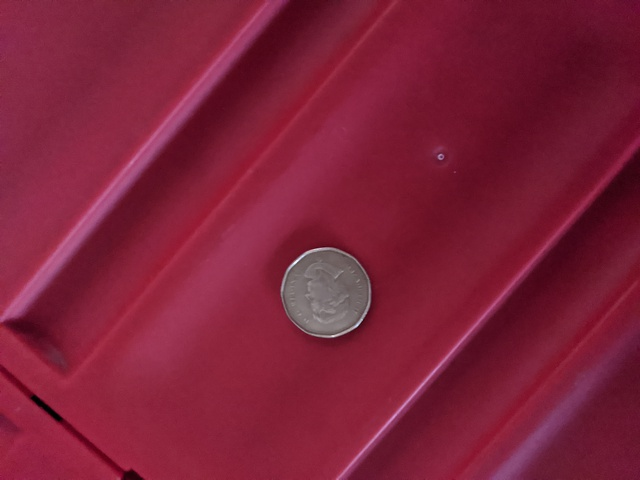loonie: (274, 235, 380, 346)
